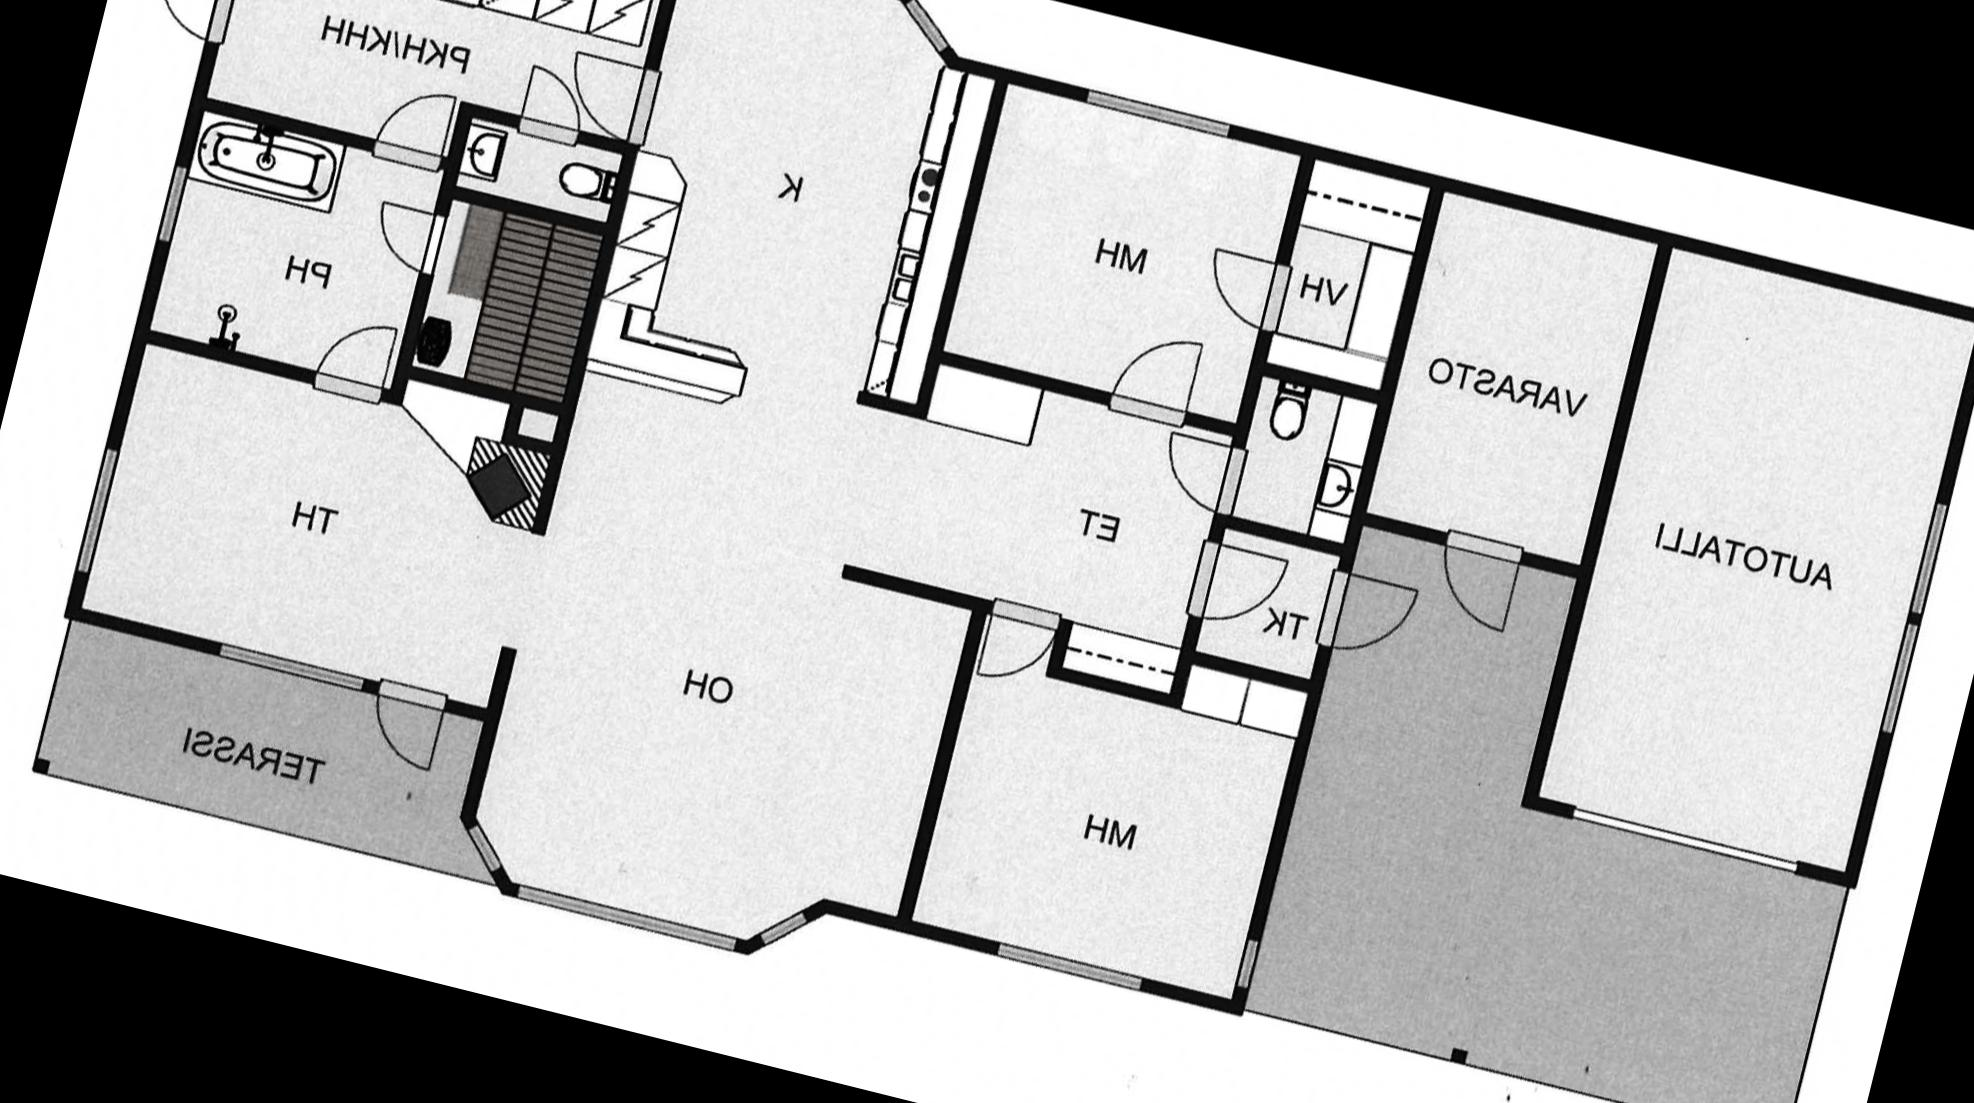door: (1419, 522, 1532, 640), (1178, 533, 1295, 642), (1101, 318, 1208, 435), (1310, 562, 1426, 669), (556, 43, 671, 145), (1193, 241, 1307, 343), (358, 669, 458, 779), (306, 305, 404, 416), (972, 587, 1064, 695), (1152, 430, 1257, 519), (369, 73, 461, 172), (512, 60, 601, 152), (366, 195, 453, 275), (141, 0, 245, 51)
window: (1558, 794, 1811, 885), (507, 874, 743, 958), (976, 930, 1156, 1004), (210, 631, 380, 701), (1074, 80, 1242, 144), (65, 438, 129, 587), (1898, 486, 1959, 625), (1875, 610, 1929, 748), (887, 0, 969, 60), (150, 154, 201, 249), (751, 893, 822, 959), (456, 820, 521, 881), (1227, 930, 1266, 999)
